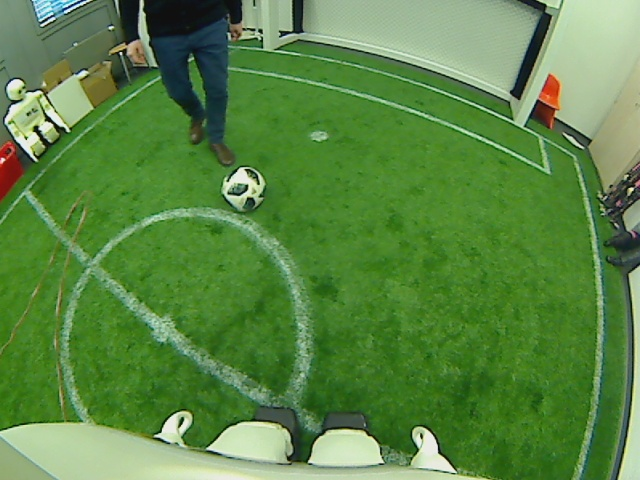ball: (220, 162, 267, 213)
